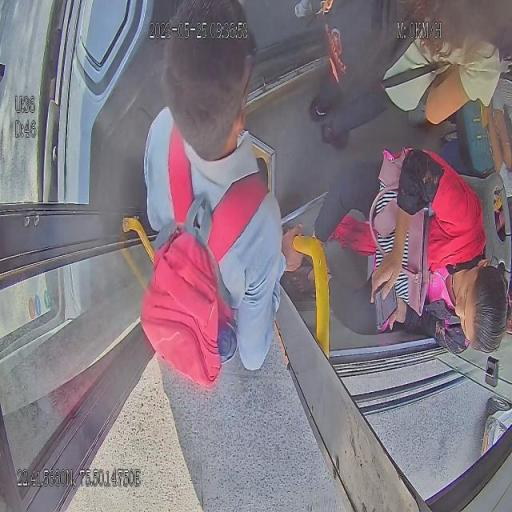persona: (139, 0, 303, 391), (324, 146, 509, 356), (309, 0, 512, 149)
